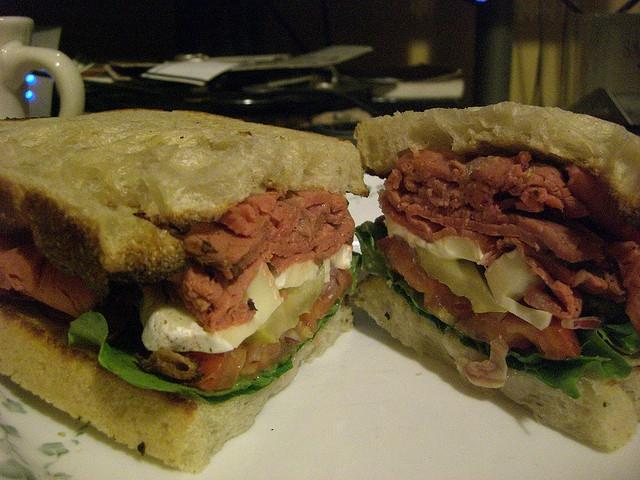lettuce: (355, 215, 640, 400), (69, 310, 274, 406)
tomato: (378, 236, 580, 360), (298, 268, 353, 333), (212, 344, 248, 390)
